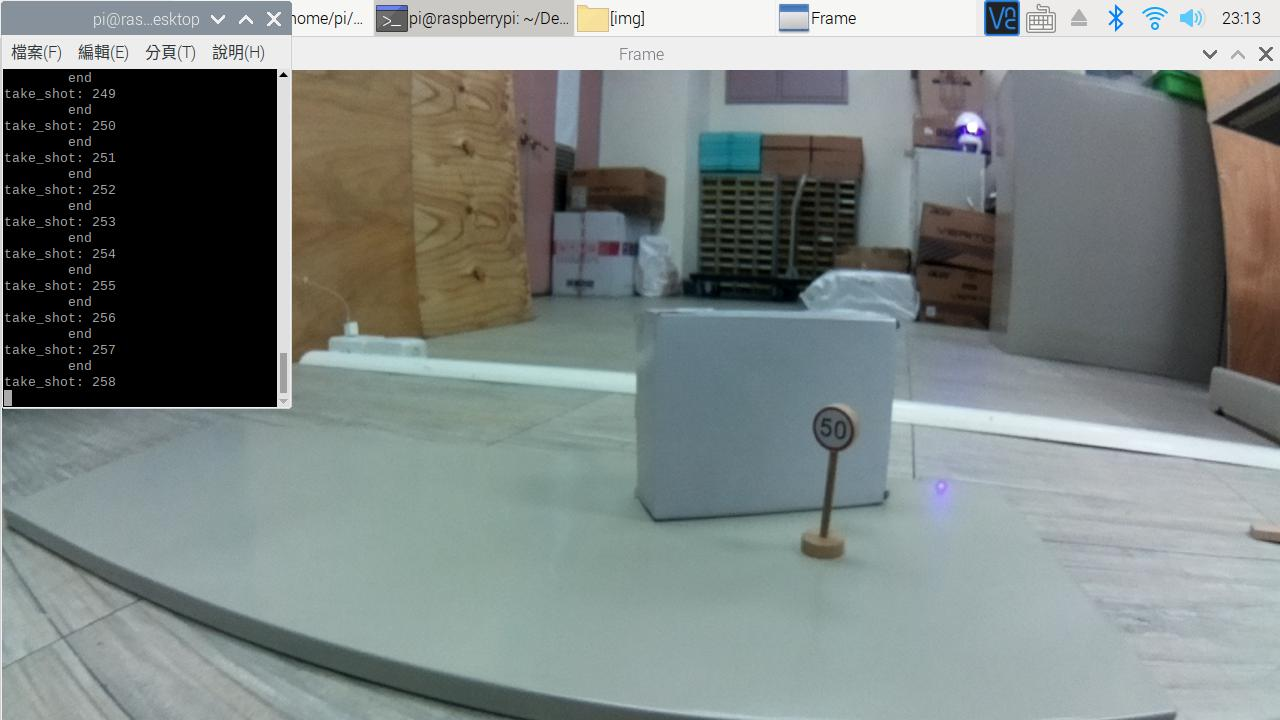Speed50: (798, 387, 866, 466)
